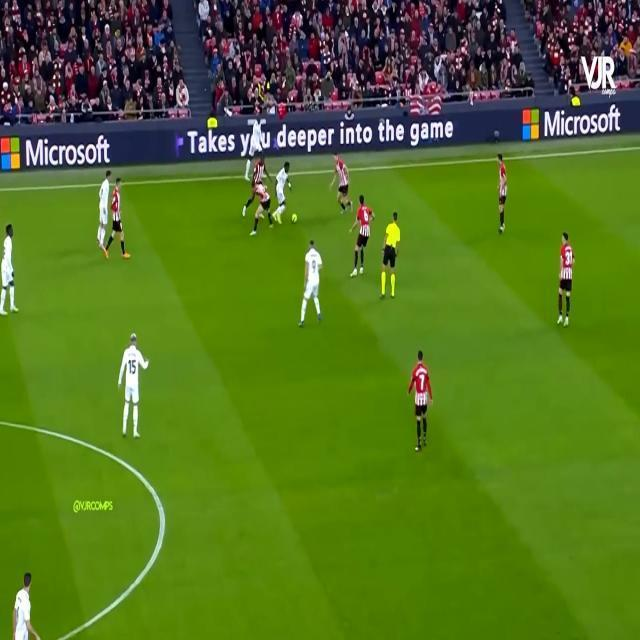ball: (289, 201, 301, 232)
player: (110, 321, 158, 470), (108, 174, 136, 307), (399, 334, 430, 452), (8, 538, 43, 640), (549, 212, 580, 327), (303, 236, 326, 380), (492, 141, 520, 252), (2, 201, 25, 322), (351, 190, 376, 287), (335, 147, 362, 217), (253, 156, 271, 245), (250, 90, 265, 168), (98, 165, 109, 261), (275, 148, 286, 229)
referee: (376, 205, 404, 322)
